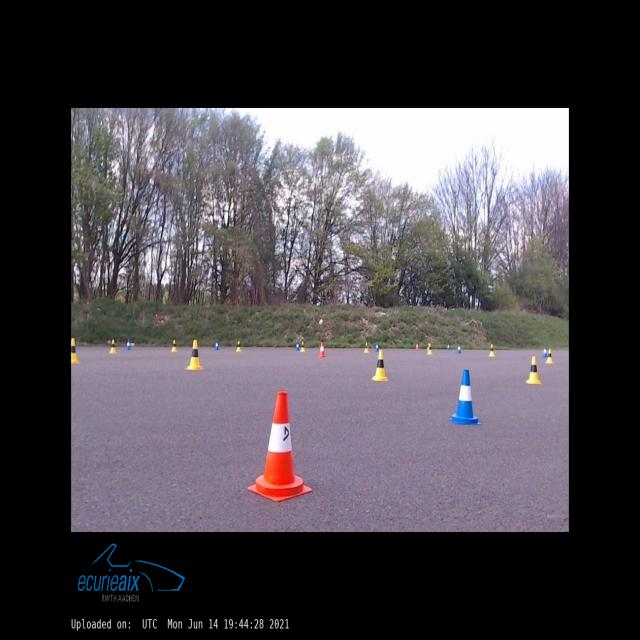blue_cone: (451, 370, 482, 426), (542, 346, 548, 357), (126, 339, 131, 350), (214, 341, 220, 350), (457, 343, 461, 353), (296, 342, 300, 350), (375, 343, 379, 351), (447, 344, 450, 350)
orange_cone: (248, 391, 312, 502), (319, 342, 326, 356), (416, 343, 419, 350)
yellow_cone: (372, 350, 388, 381), (188, 340, 202, 369), (526, 356, 540, 384), (71, 338, 79, 364), (110, 339, 116, 353), (546, 348, 552, 362), (171, 340, 177, 352), (488, 344, 494, 356), (236, 341, 241, 352), (427, 343, 432, 354), (300, 341, 304, 351), (364, 342, 368, 352), (427, 343, 429, 350)
